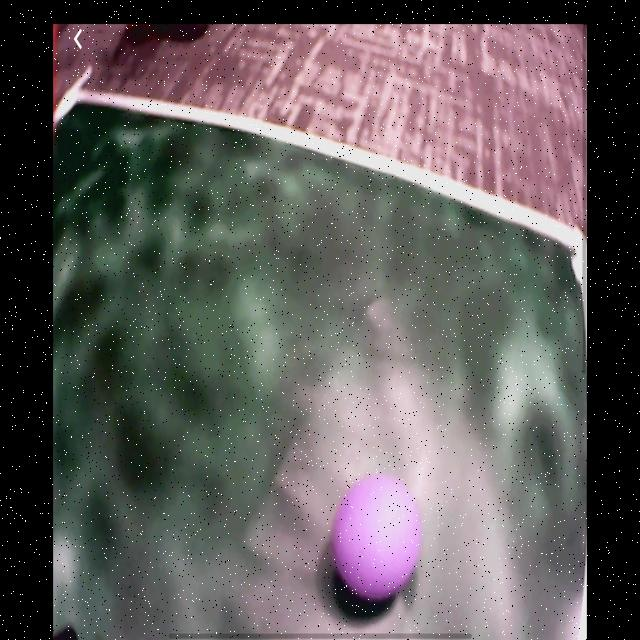ball: (332, 473, 423, 601)
